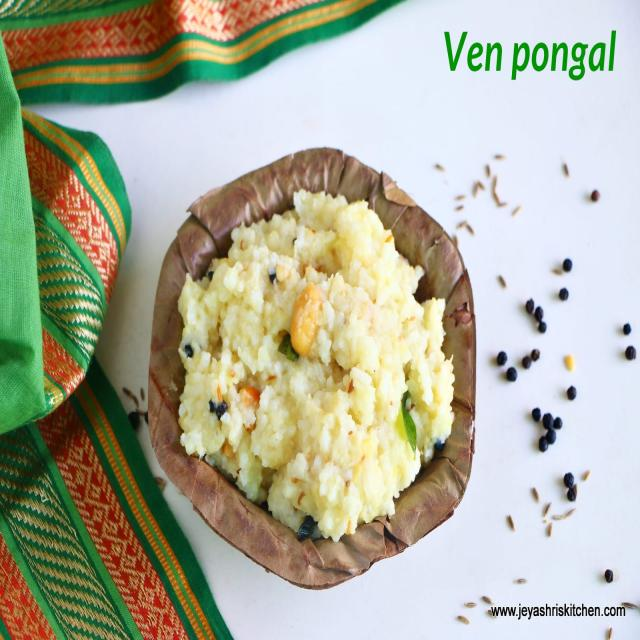khara pongal: (165, 172, 464, 553)
